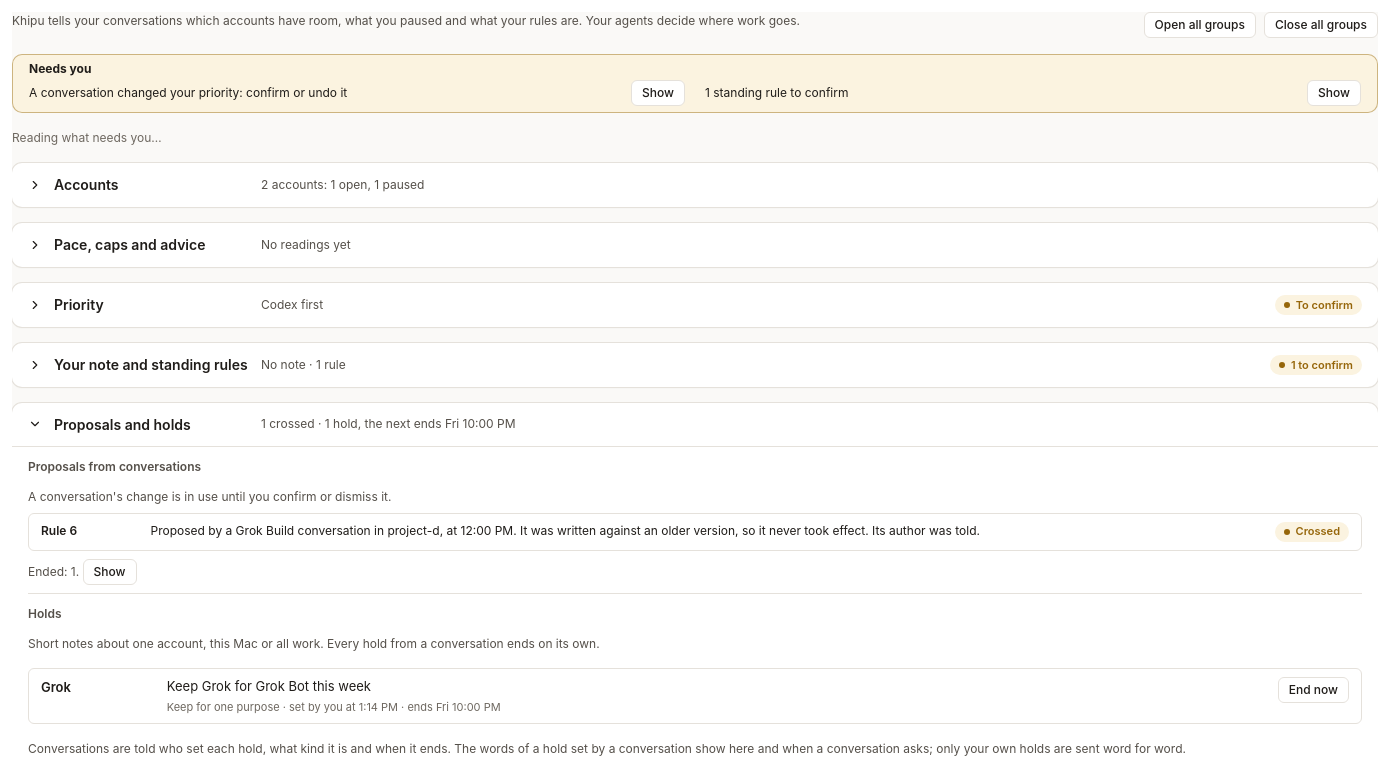
Test: Proposals and holds: proposals beside the owner's words › puts an overtaken proposal in the ended group, labelled as replaced by the owner, not in the main list
This screenshot has width=1390, height=778.
Check: the list named "Proposals" is shown, box [28, 513, 1362, 551]
Check: the text "Rule 6" is shown, box [41, 523, 77, 538]
What coordinates should you click on to do the following:
click the button "Show" in the row of "Ended:"
I would click on:
 (110, 572)
Its box is [83, 559, 137, 585].
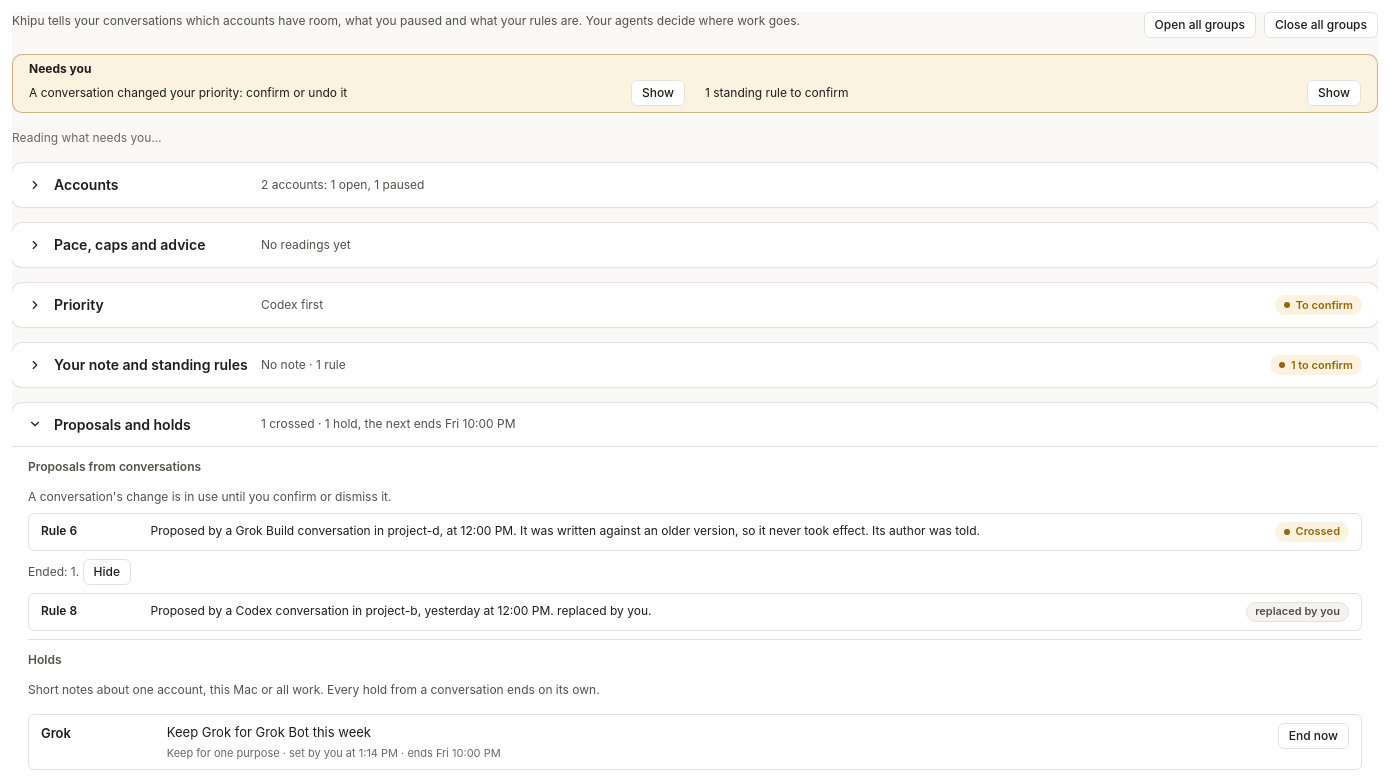
Check: the list item "Rule 8" shows "replaced by you", box [557, 603, 648, 618]
